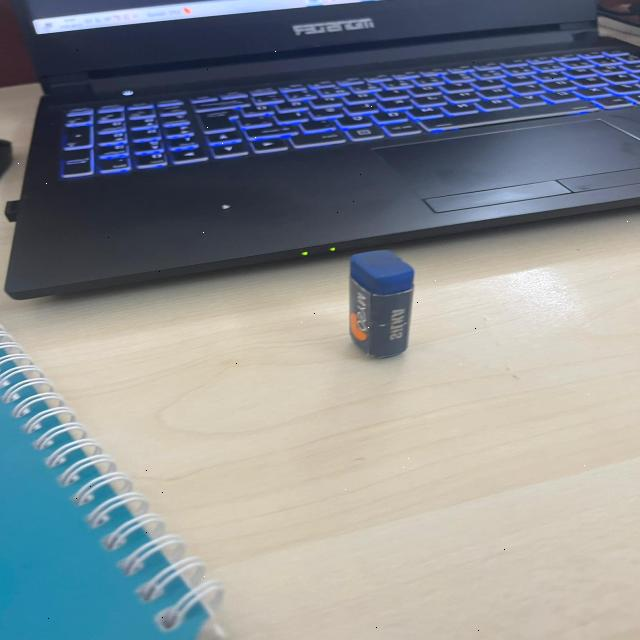eraser: (328, 244, 430, 368)
